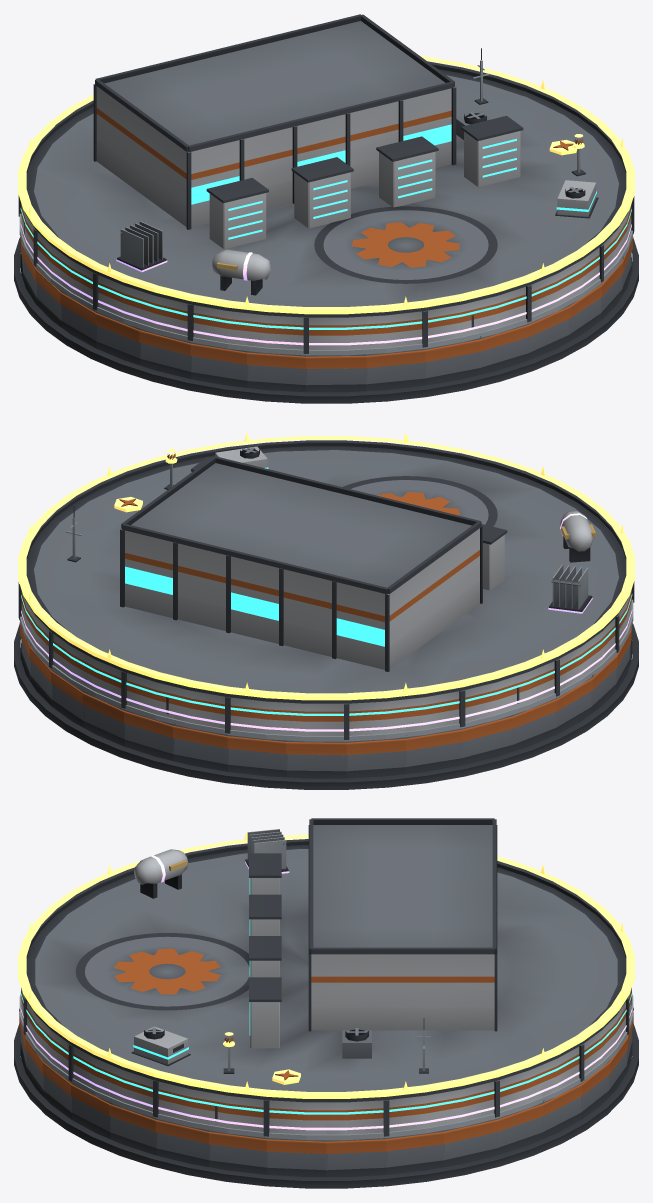
File: battery_plant_l_far.glb
3 renders of one model, top to bottom at view 1: azimuth 30°, elevation 25°; view 2: azimuth 150°, elevation 25°; view 3: azimuth 270°, elevation 25°, orthographic.
Visible parts, largest first — view 1: Roof, Base, L5, L4, L2, L3; view 2: Roof, Base, L5, L4, L2, L3; view 3: Roof, Base, L5, L4, L2, L3.
Boxes of the visible parts, x1,y1,x2,y2 form: Roof: (18, 14, 634, 353); Base: (14, 236, 638, 403); L5: (18, 56, 634, 314); L4: (20, 221, 631, 345); L2: (19, 48, 633, 355); L3: (20, 180, 631, 329); Roof: (18, 440, 634, 739); Base: (14, 622, 638, 789); L5: (18, 432, 634, 700); L4: (21, 511, 632, 731); L2: (19, 506, 633, 741); L3: (21, 446, 632, 715); Roof: (21, 818, 631, 1136); Base: (14, 1007, 638, 1188); L5: (18, 831, 634, 1098); L4: (20, 829, 632, 1130); L2: (19, 994, 633, 1140); L3: (20, 992, 632, 1114).
Bounding box in the file's own units: 18.96 × 5.56 × 18.96.
